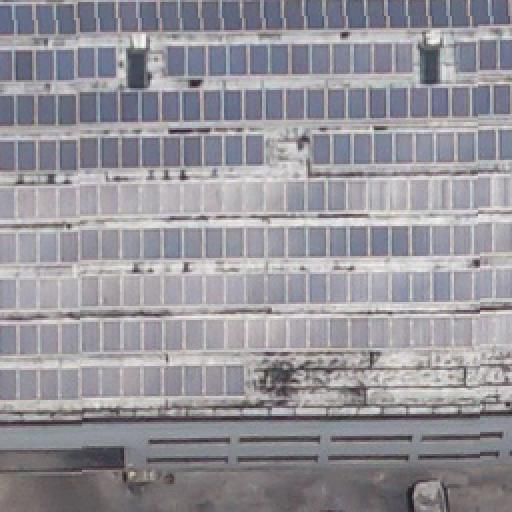solar-panel: (0, 309, 512, 355), (0, 265, 512, 311), (0, 175, 512, 217), (0, 222, 512, 262), (0, 86, 512, 126), (0, 0, 512, 32), (0, 132, 264, 172), (1, 361, 247, 399), (165, 42, 411, 78), (308, 129, 512, 167), (1, 46, 119, 82), (454, 40, 512, 72)
